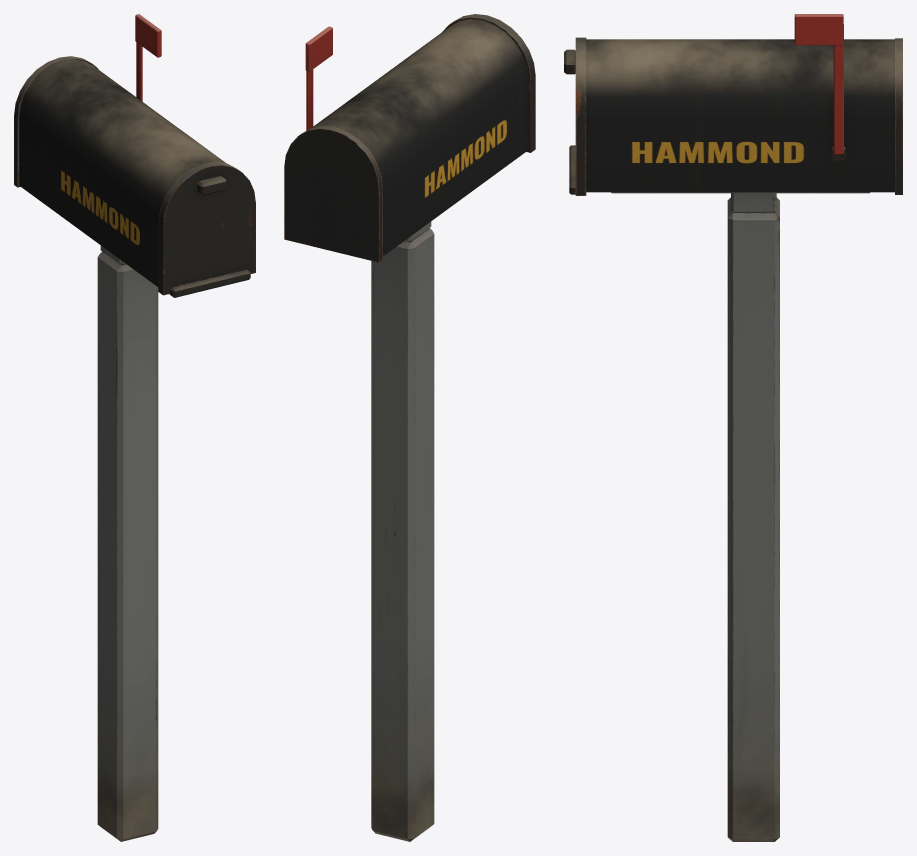
The model's file is mailbox_hammond.glb.
3 renders of one model, left to right at view 1: azimuth 30°, elevation 25°; view 2: azimuth 150°, elevation 25°; view 3: azimuth 270°, elevation 25°, orthographic. The views are drawn at different scales.
Visible parts, largest first — view 1: mailbox_hammond, mailbox_flag; view 2: mailbox_hammond, mailbox_flag; view 3: mailbox_hammond, mailbox_flag.
Part boxes in pixels (x1,y1,x2,y2): mailbox_hammond: (14,56,255,841); mailbox_flag: (135,14,161,101); mailbox_hammond: (284,14,535,841); mailbox_flag: (305,26,332,130); mailbox_hammond: (564,37,902,841); mailbox_flag: (794,14,843,154).
Bounding box in the file's own units: 0.1907 × 1.43 × 0.518.
Materials: 2 (2 with a texture image).
